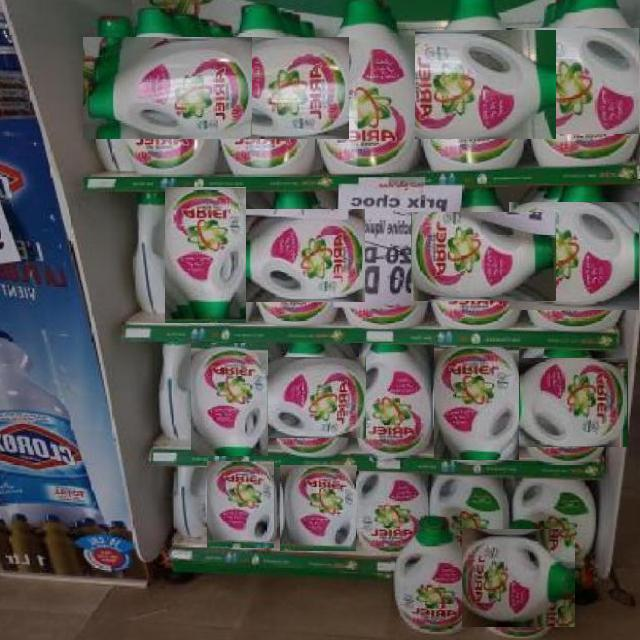Detergent: (386, 30, 556, 139), (83, 36, 252, 139), (181, 36, 349, 139), (316, 0, 415, 174), (505, 29, 640, 134), (508, 203, 640, 310), (411, 213, 556, 301), (229, 209, 365, 302), (502, 358, 628, 447), (462, 529, 575, 627), (165, 187, 246, 323), (391, 517, 479, 631), (434, 347, 519, 460), (351, 343, 434, 457), (252, 357, 366, 438), (191, 343, 268, 456), (279, 464, 357, 551), (207, 460, 274, 548), (356, 472, 427, 554)
